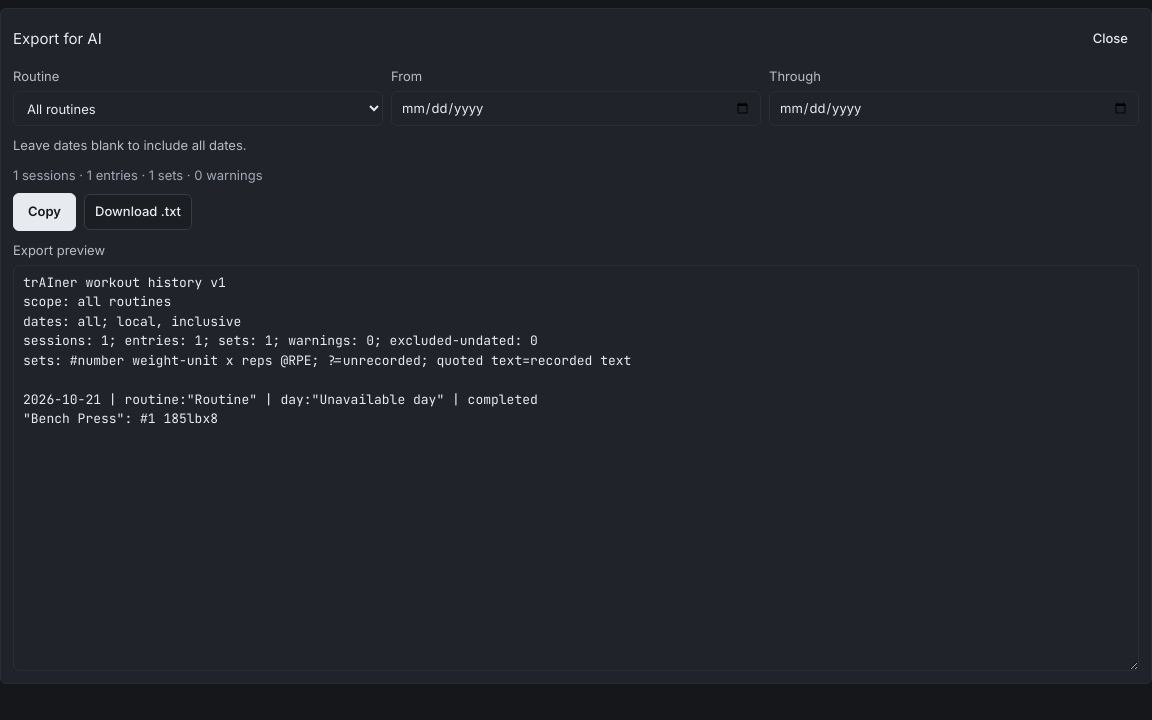
Test: HistoryExportPanel › copies the preview verbatim and announces success only after clipboard success
What coordinates should you click on to do the following:
click the button "Copy"
I would click on:
 (44, 212)
Its box is [13,193,76,231].
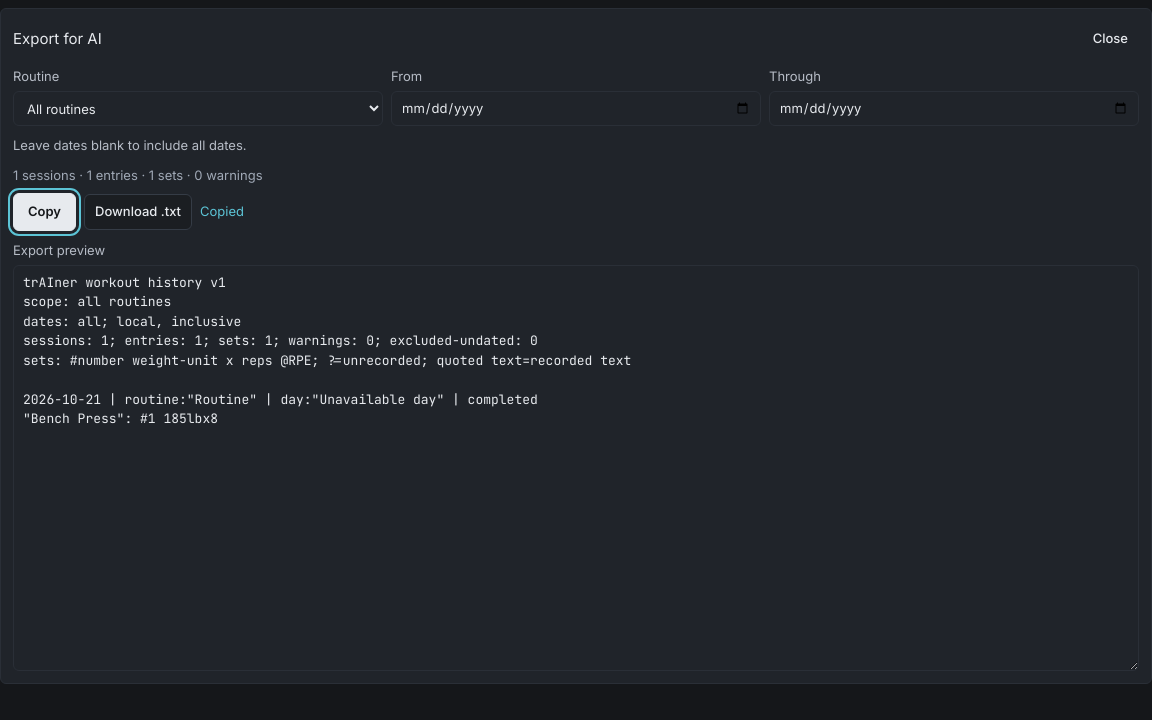
Expected: the message reads "Copied", [200,203,244,219]
